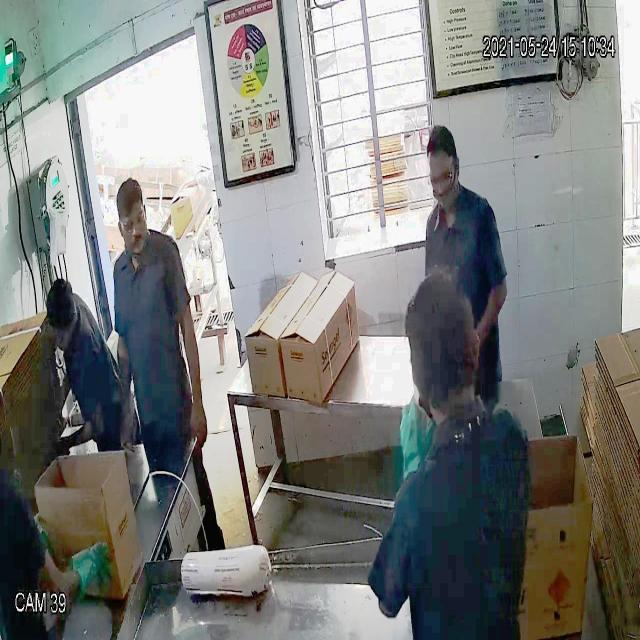glasses: (112, 201, 152, 237), (425, 159, 459, 192)
